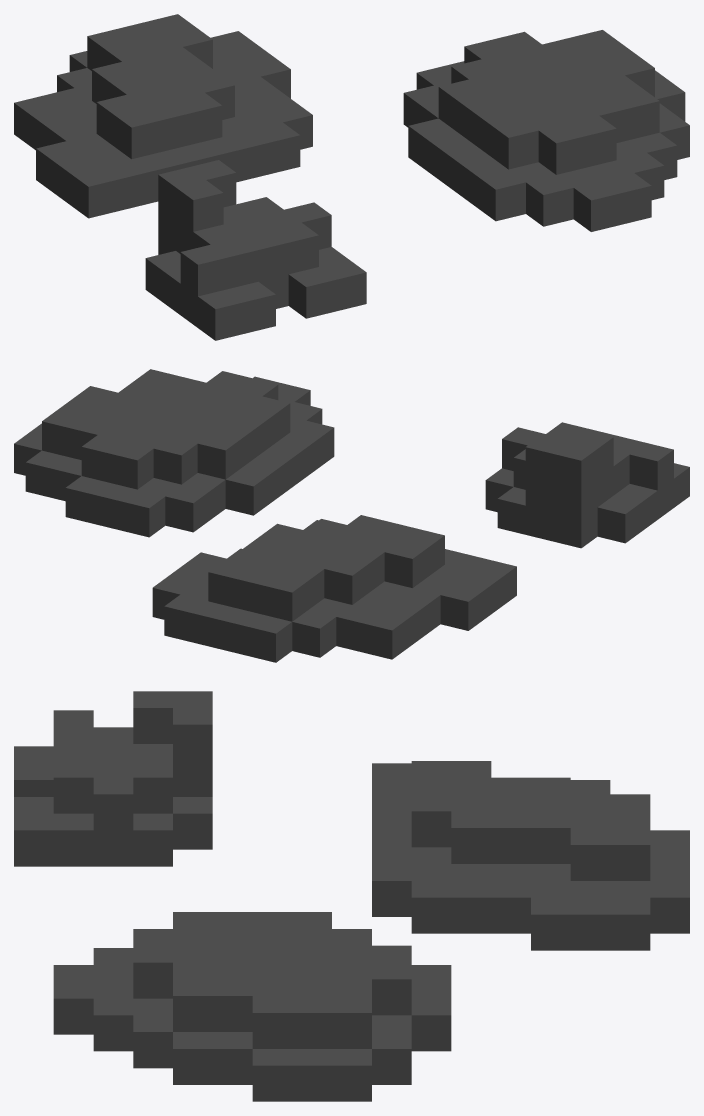
File: peddles.gltf
3 renders of one model, top to bottom at view 1: azimuth 30°, elevation 25°; view 2: azimuth 150°, elevation 25°; view 3: azimuth 270°, elevation 25°, orthographic. The views are drawn at different scales.
Parts seen in each view (by area): view 1: Layer.3, Layer.2, Layer.1; view 2: Layer.3, Layer.2, Layer.1; view 3: Layer.3, Layer.2, Layer.1.
Part boxes in pixels (<box>): Layer.3: <box>403,30,689,231</box>; Layer.2: <box>14,14,312,218</box>; Layer.1: <box>145,160,366,340</box>; Layer.3: <box>14,369,334,537</box>; Layer.2: <box>152,515,516,662</box>; Layer.1: <box>485,422,689,548</box>; Layer.3: <box>53,912,451,1101</box>; Layer.2: <box>372,761,689,950</box>; Layer.1: <box>14,691,212,866</box>.
Bounding box in the file's own units: 19 × 3 × 17.
1 material, 1 textured.
